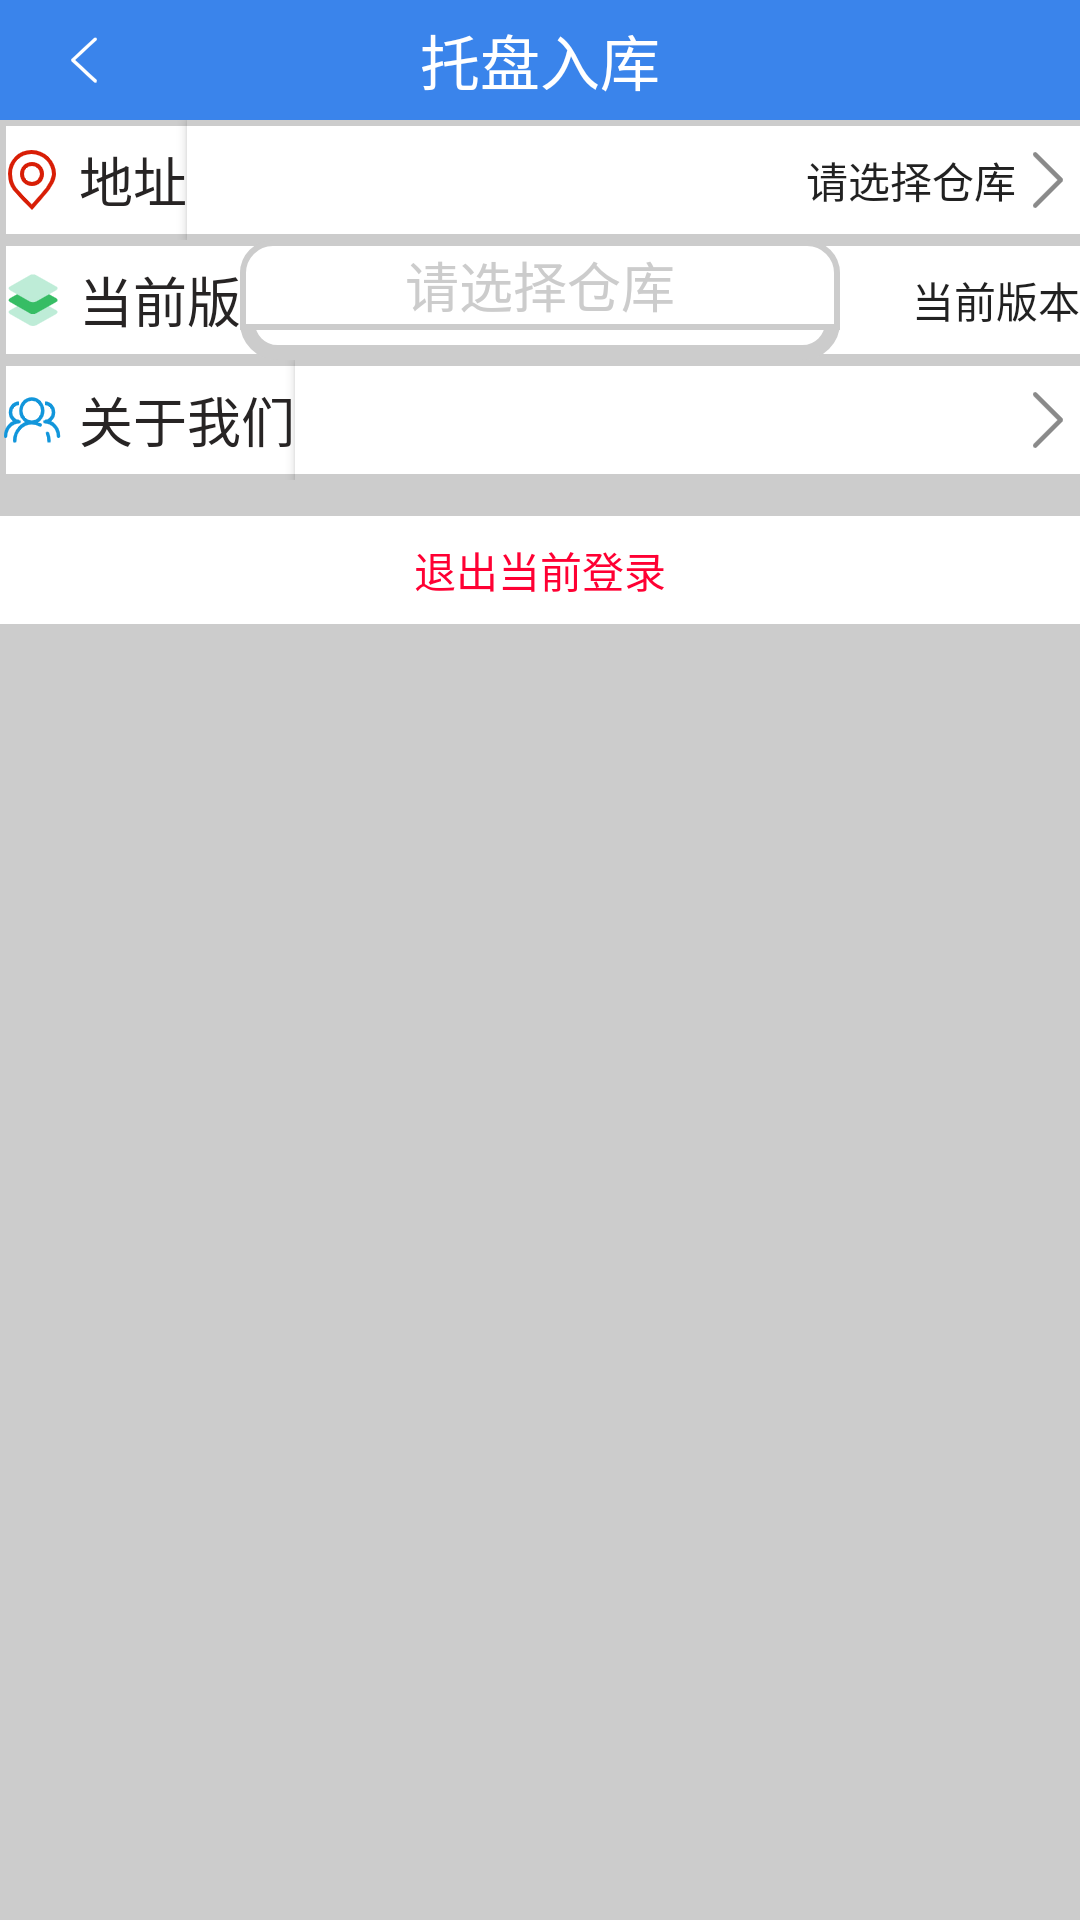

Icon click points for this 1080px x 1920px phone screenshot, format [x,y]:
version: [32,300]
